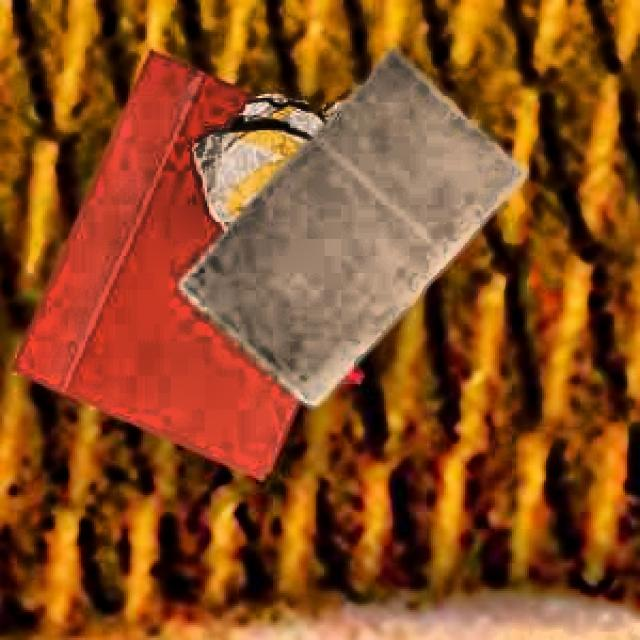Paper-bag: (8, 44, 355, 503), (193, 51, 539, 405), (200, 91, 386, 316)
